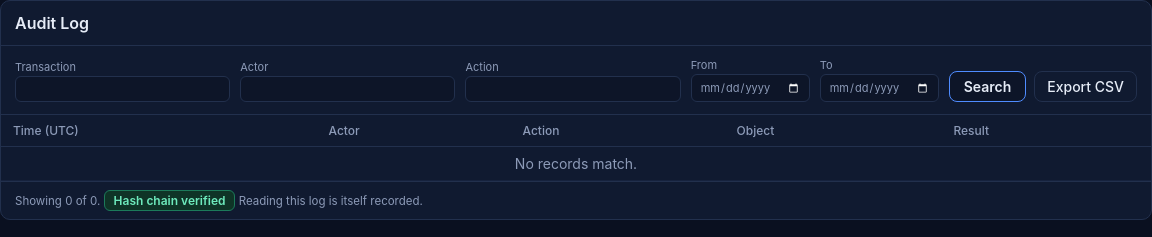
Test case: AuditLog › shows an empty state, and an error when the server refuses
The image size is (1152, 237).
Expected: the text "No records match." is shown, [1,146,1151,180]
Click the button "Search".
click(987, 86)  # box [949,71,1026,102]
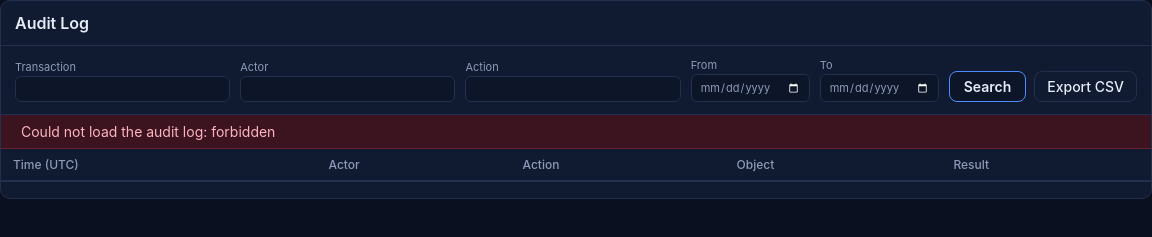
Now the message shows "forbidden", box [21,123,275,140]
